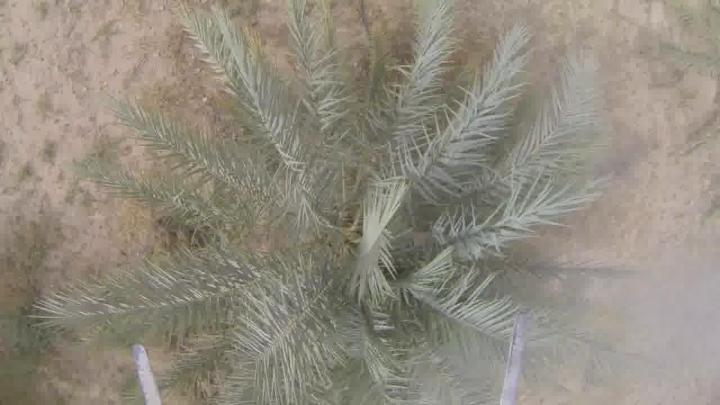Date-Palm-Crown: (216, 82, 516, 374)
